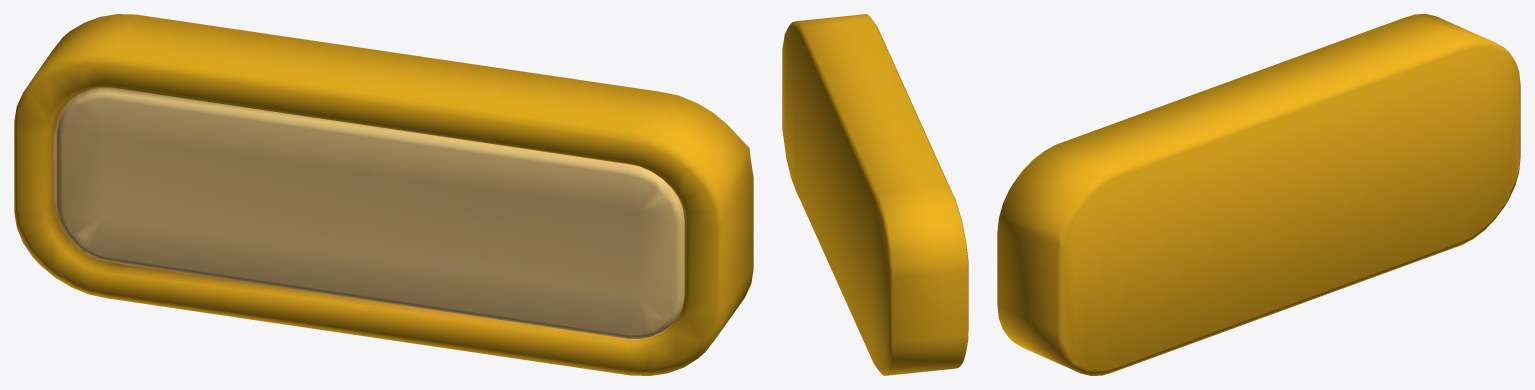
The model's file is sign-win.glb.
The picture shows the model from 3 angles, left to right: view 1: azimuth 30°, elevation 25°; view 2: azimuth 150°, elevation 25°; view 3: azimuth 270°, elevation 25°; orthographic projection. The views are drawn at different scales.
Visible parts, largest first — view 1: tripo_node_84f2c914-ae16-4297-ba6a-0b6e30c721a4; view 2: tripo_node_84f2c914-ae16-4297-ba6a-0b6e30c721a4; view 3: tripo_node_84f2c914-ae16-4297-ba6a-0b6e30c721a4.
Boxes of the visible parts, left/top/right/bottom form: tripo_node_84f2c914-ae16-4297-ba6a-0b6e30c721a4: left=14, top=14, right=753, bottom=375; tripo_node_84f2c914-ae16-4297-ba6a-0b6e30c721a4: left=782, top=14, right=968, bottom=375; tripo_node_84f2c914-ae16-4297-ba6a-0b6e30c721a4: left=997, top=14, right=1520, bottom=375.
Size of the model in its own units: 0.9106 by 0.4272 by 0.9995.
1 material, 1 textured.
